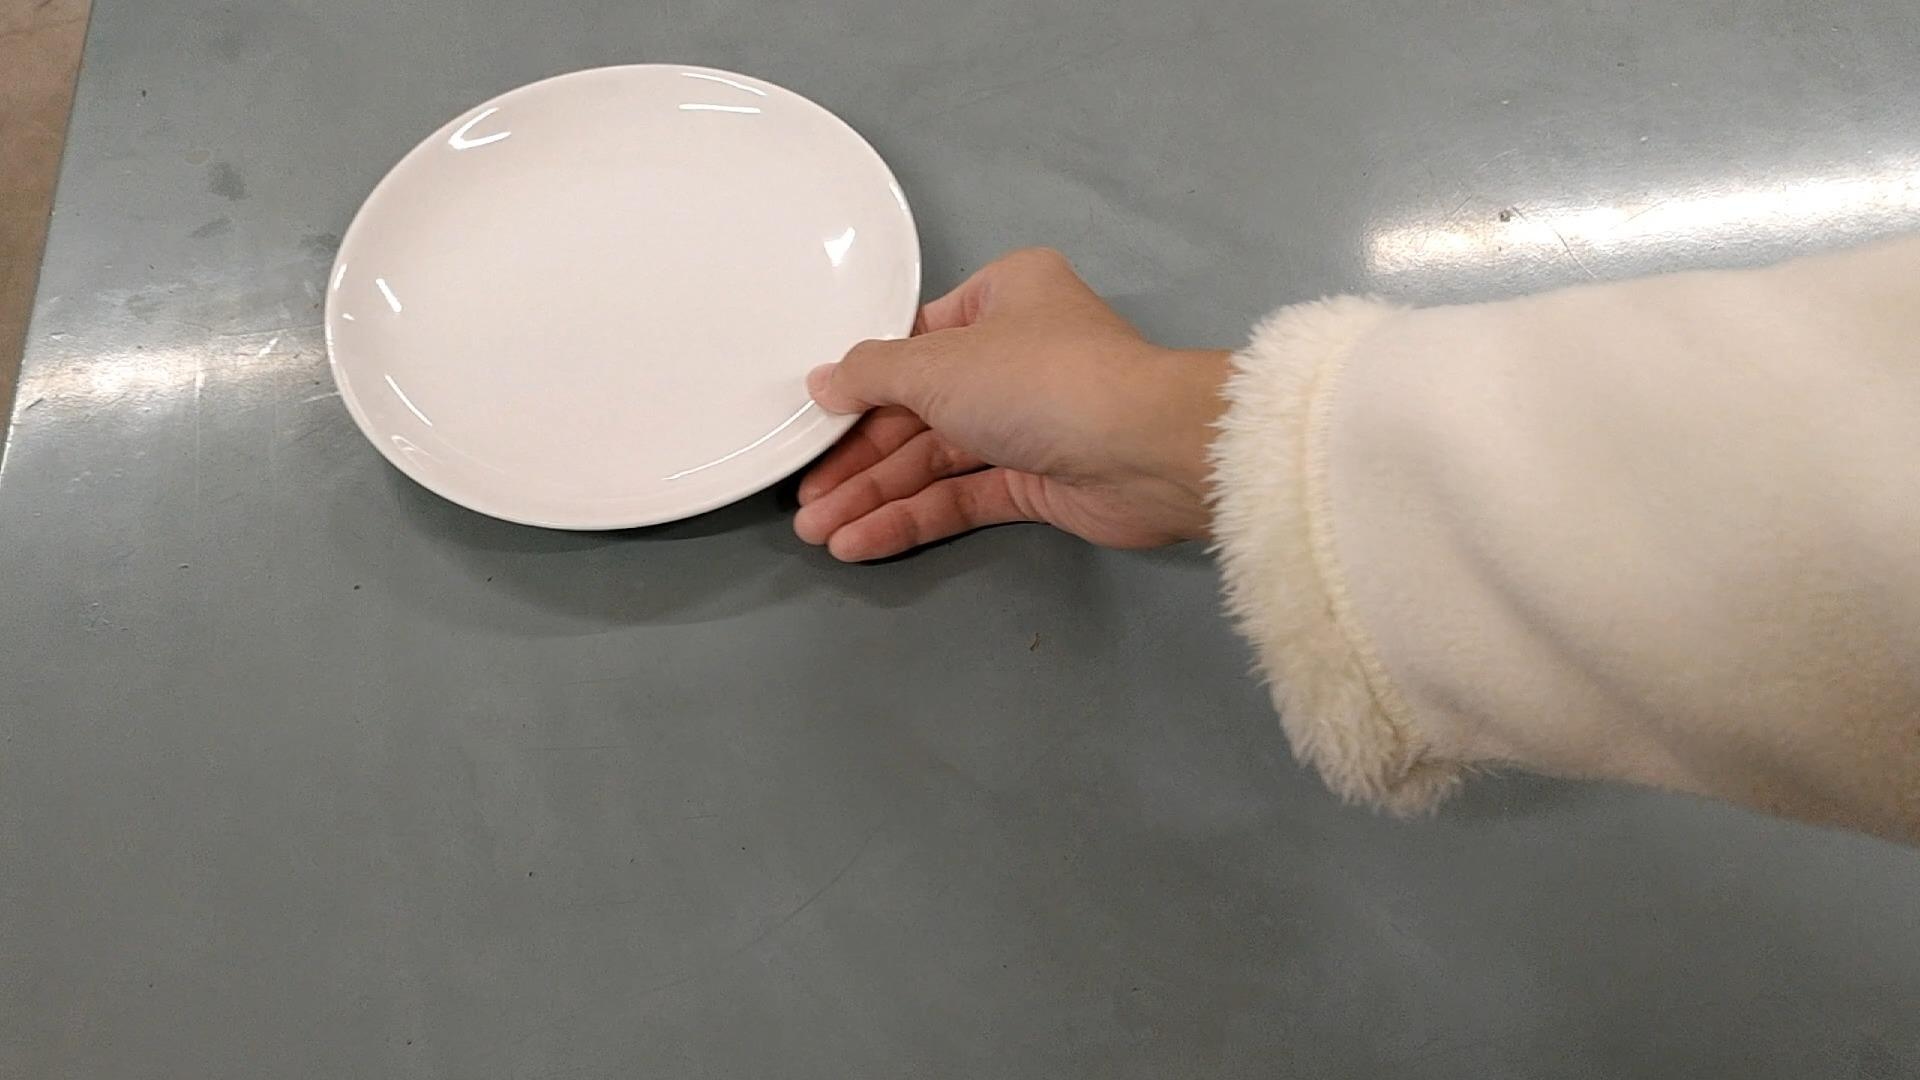plate: (326, 58, 922, 534)
